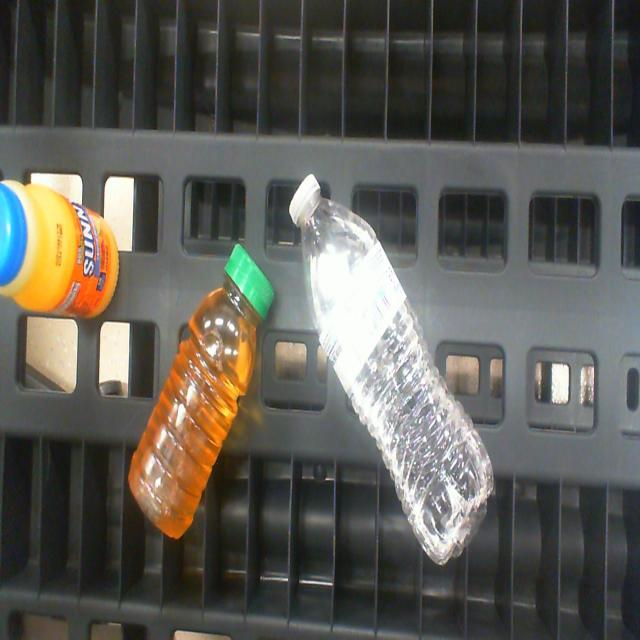drink: (224, 245, 274, 319), (0, 180, 26, 286), (286, 168, 322, 222)
